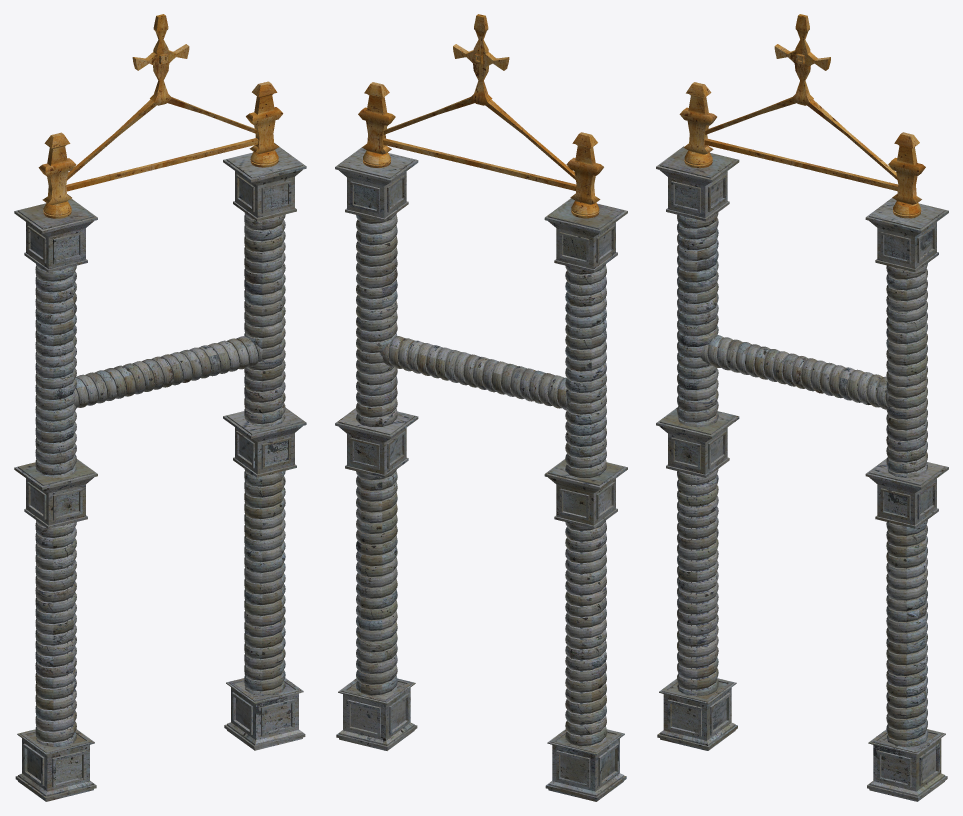
File: fbxGate.fbx
The picture shows the model from 3 angles, left to right: view 1: azimuth 30°, elevation 25°; view 2: azimuth 150°, elevation 25°; view 3: azimuth 330°, elevation 25°; orthographic projection.
Parts seen in each view (by area): view 1: Gate; view 2: Gate; view 3: Gate.
Boxes of the visible parts, bbox=[...] form: Gate: bbox=[14, 14, 306, 801]; Gate: bbox=[335, 14, 627, 801]; Gate: bbox=[656, 14, 948, 801].
Bounding box in the file's own units: 14.94 × 40.11 × 2.93.
2 materials, 2 textured.
